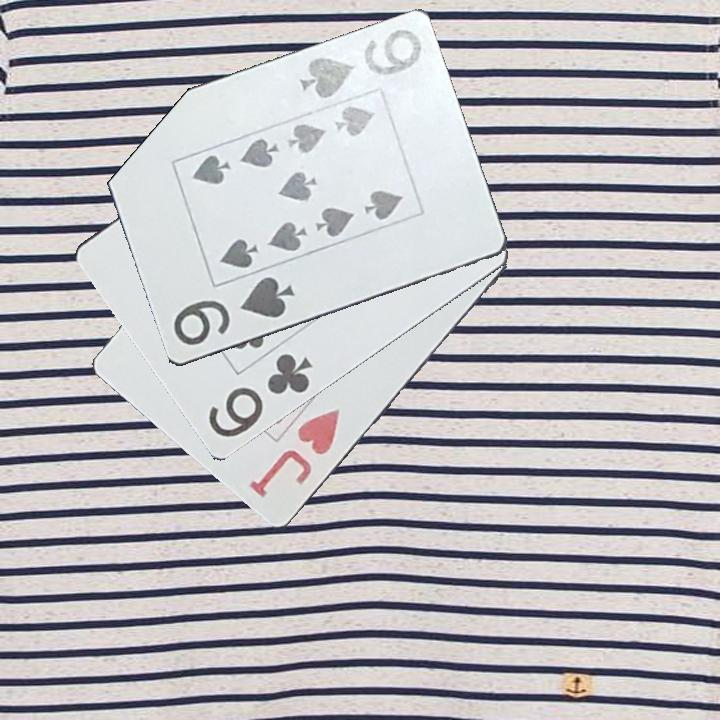6c: (204, 350, 315, 443)
9s: (296, 26, 425, 105), (169, 273, 298, 349)
Jh: (245, 405, 343, 502)
